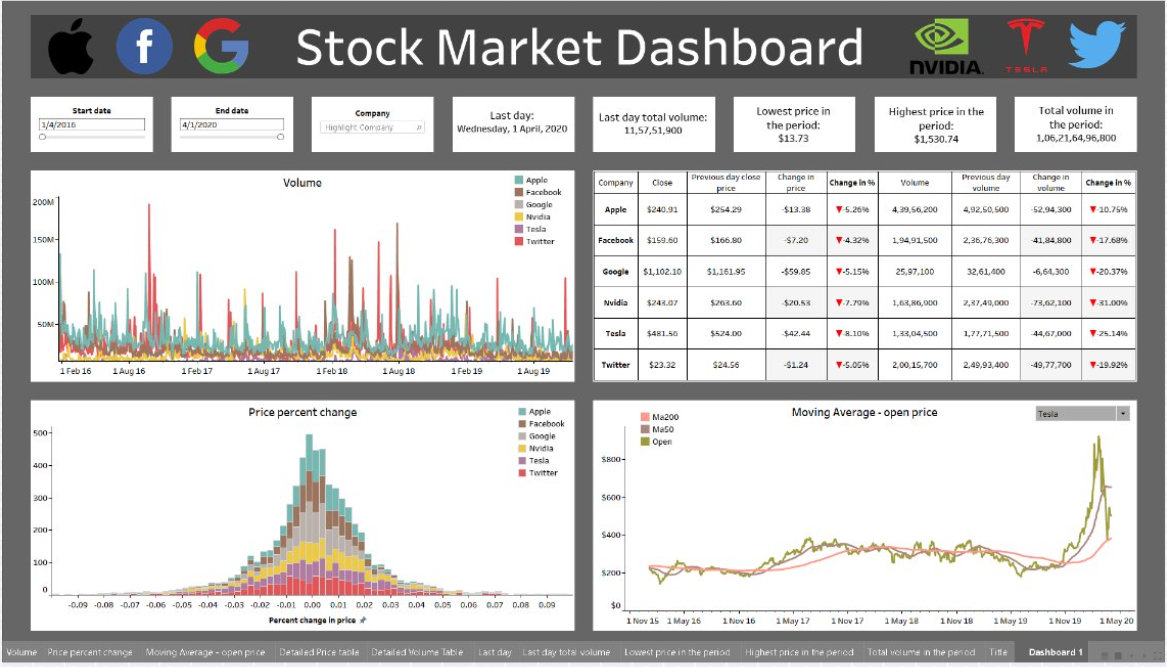

What the dashboard file says about the page in this screenshot:
{"tool":"tableau","page":{"name":"Dashboard 1","canvas":[1850,1050],"ordinal":0},"visuals":[{"type":"blank","box":[8,8,1834,134]},{"type":"image","param":"Image/Apple logo.png","box":[39,28,98,92]},{"type":"image","param":"Image/Facebook logo.png","box":[154,28,109,92]},{"type":"image","param":"Image/Google logo.png","box":[284,28,99,91]},{"type":"image","param":"Image/Twitter logo.png","box":[1714,28,96,87]},{"type":"image","param":"Image/Nvidia logo.png","box":[1455,29,125,91]},{"type":"image","param":"Image/Tesla logo.png","box":[1585,29,122,88]},{"type":"worksheet","title":"Title","mark":"Automatic","box":[422,30,997,94]},{"type":"blank","box":[8,142,229.3,120]},{"type":"blank","box":[237.2,142,229.3,120]},{"type":"blank","box":[466.5,142,229.3,120]},{"type":"blank","box":[695.7,142,229.3,120]},{"type":"blank","box":[925,142,229.3,120]},{"type":"blank","box":[1154.3,142,229.3,120]},{"type":"blank","box":[1383.5,142,229.3,120]},{"type":"blank","box":[1612.8,142,229.3,120]},{"type":"worksheet","title":"Last day","mark":"Automatic","box":[713,158,194,82]},{"type":"worksheet","title":"Last day total volume","mark":"Automatic","box":[940,163,200,80]},{"type":"worksheet","title":"Total volume in the period","mark":"Automatic","box":[1654,166,151,77]},{"type":"worksheet","title":"Lowest price in the period","mark":"Automatic","box":[1194,168,148,70]},{"type":"worksheet","title":"Highest price in the period","mark":"Automatic","box":[1413,169,176,68]},{"type":"parameter","param":"[Parameters].[Parameter 1]","box":[33,170,179,68]},{"type":"parameter","param":"[Parameters].[Parameter 2]","box":[263,170,176,69]},{"type":"highlighter","title":"Volume","param":"[federated.14ttqj919vql5v1a4mjgi1opb86z].[none:Table Name:nk]","box":[492,174,177,57]},{"type":"blank","box":[8,262,917,374]},{"type":"blank","box":[925,262,917,374]},{"type":"worksheet","title":"Detailed Price table","mark":"Automatic","rows":["Table Name","Close","Previous day close price","Change in price"],"box":[941,278,464,341]},{"type":"worksheet","title":"Detailed Volume Table ","mark":"Automatic","rows":["Table Name","Volume","Previous day volume","Change in volume"],"box":[1405,278,420,341]},{"type":"worksheet","title":"Volume","mark":"Automatic","rows":["Volume"],"cols":["Date"],"box":[25,279,882,338]},{"type":"legend","title":"Volume","param":"[federated.14ttqj919vql5v1a4mjgi1opb86z].[none:Table Name:nk]","box":[809,282,96,139]},{"type":"blank","box":[8,636,917,406]},{"type":"blank","box":[925,636,917,406]},{"type":"worksheet","title":"Price percent change","mark":"Automatic","rows":["Percent change in price"],"cols":["Percent change in price (bin)"],"box":[26,653,881,372]},{"type":"worksheet","title":"Moving Average - open price","mark":"Automatic","cols":["Date"],"box":[942,653,882,371]},{"type":"filter","title":"Moving Average - open price","param":"[federated.14ttqj919vql5v1a4mjgi1opb86z].[none:Table Name:nk]","box":[1659,657,160,32]},{"type":"legend","title":"Price percent change","param":"[federated.14ttqj919vql5v1a4mjgi1opb86z].[none:Table Name:nk]","box":[814,659,90,134]},{"type":"legend","title":"Moving Average - open price","param":"[federated.14ttqj919vql5v1a4mjgi1opb86z].[:Measure Names]","box":[1015,668,81,71]}]}

Visuals, with their boxes on the page's 1850x1050 design canvas (x1, y1, x2, y2). These are canvas units, not pixel positions in the 1167x667 screenshot, which may show the page scaled, cropped or inside an application window:
blank: (left=8, top=8, right=1842, bottom=142)
image: (left=39, top=28, right=137, bottom=120)
image: (left=154, top=28, right=263, bottom=120)
image: (left=284, top=28, right=383, bottom=119)
image: (left=1714, top=28, right=1810, bottom=115)
image: (left=1455, top=29, right=1580, bottom=120)
image: (left=1585, top=29, right=1707, bottom=117)
"Title" worksheet: (left=422, top=30, right=1419, bottom=124)
blank: (left=8, top=142, right=237, bottom=262)
blank: (left=237, top=142, right=466, bottom=262)
blank: (left=466, top=142, right=696, bottom=262)
blank: (left=696, top=142, right=925, bottom=262)
blank: (left=925, top=142, right=1154, bottom=262)
blank: (left=1154, top=142, right=1384, bottom=262)
blank: (left=1384, top=142, right=1613, bottom=262)
blank: (left=1613, top=142, right=1842, bottom=262)
"Last day" worksheet: (left=713, top=158, right=907, bottom=240)
"Last day total volume" worksheet: (left=940, top=163, right=1140, bottom=243)
"Total volume in the period" worksheet: (left=1654, top=166, right=1805, bottom=243)
"Lowest price in the period" worksheet: (left=1194, top=168, right=1342, bottom=238)
"Highest price in the period" worksheet: (left=1413, top=169, right=1589, bottom=237)
parameter: (left=33, top=170, right=212, bottom=238)
parameter: (left=263, top=170, right=439, bottom=239)
"Volume" highlighter: (left=492, top=174, right=669, bottom=231)
blank: (left=8, top=262, right=925, bottom=636)
blank: (left=925, top=262, right=1842, bottom=636)
"Detailed Price table" worksheet: (left=941, top=278, right=1405, bottom=619)
"Detailed Volume Table " worksheet: (left=1405, top=278, right=1825, bottom=619)
"Volume" worksheet: (left=25, top=279, right=907, bottom=617)
"Volume" legend: (left=809, top=282, right=905, bottom=421)
blank: (left=8, top=636, right=925, bottom=1042)
blank: (left=925, top=636, right=1842, bottom=1042)
"Price percent change" worksheet: (left=26, top=653, right=907, bottom=1025)
"Moving Average - open price" worksheet: (left=942, top=653, right=1824, bottom=1024)
"Moving Average - open price" filter: (left=1659, top=657, right=1819, bottom=689)
"Price percent change" legend: (left=814, top=659, right=904, bottom=793)
"Moving Average - open price" legend: (left=1015, top=668, right=1096, bottom=739)
